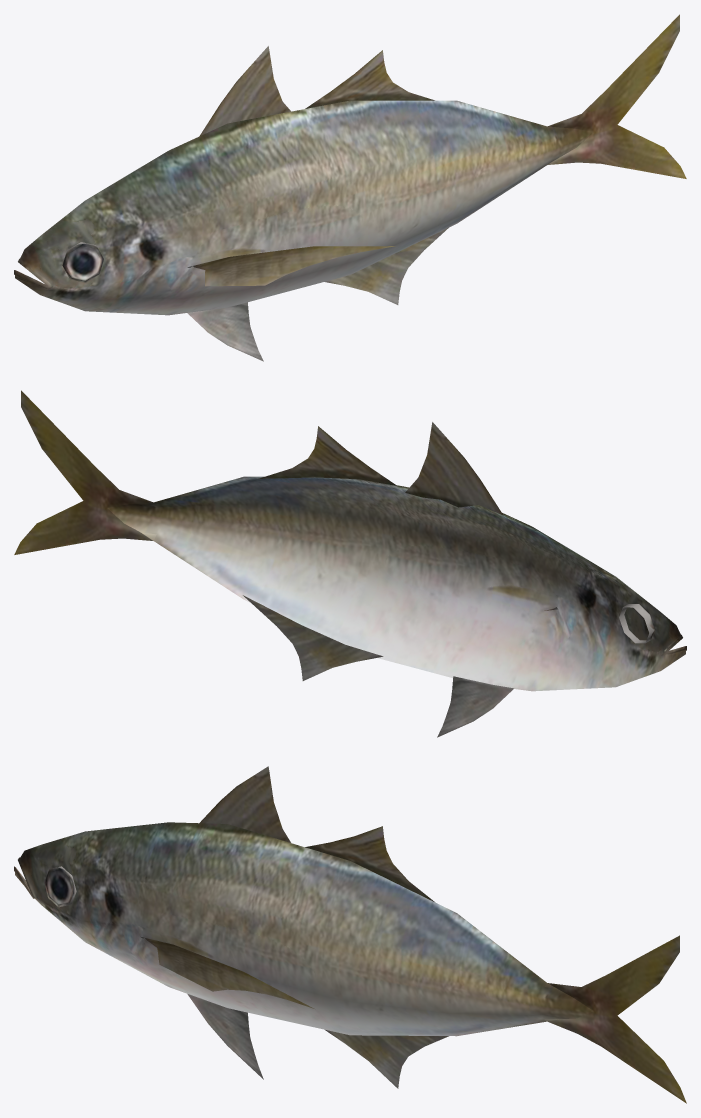
File: fish.fbx
3 renders of one model, top to bottom at view 1: azimuth 30°, elevation 25°; view 2: azimuth 150°, elevation 25°; view 3: azimuth 330°, elevation 25°, orthographic.
Parts seen in each view (by area): view 1: body6; view 2: body6; view 3: body6.
Boxes of the visible parts, left/top/right/bottom form: body6: left=14, top=14, right=686, bottom=361; body6: left=14, top=390, right=686, bottom=737; body6: left=14, top=766, right=686, bottom=1103.
Bounding box in the file's own units: 2.34 × 1.05 × 0.2441.
